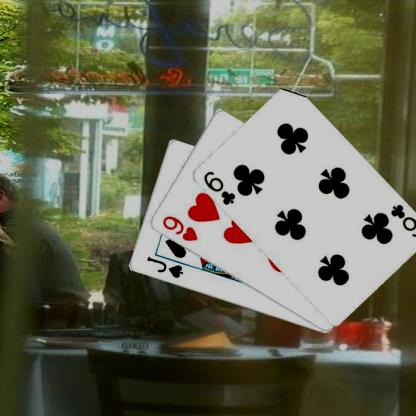6C: (200, 168, 236, 207), (387, 202, 416, 238)
9H: (159, 213, 199, 243)
JS: (144, 254, 184, 280)
